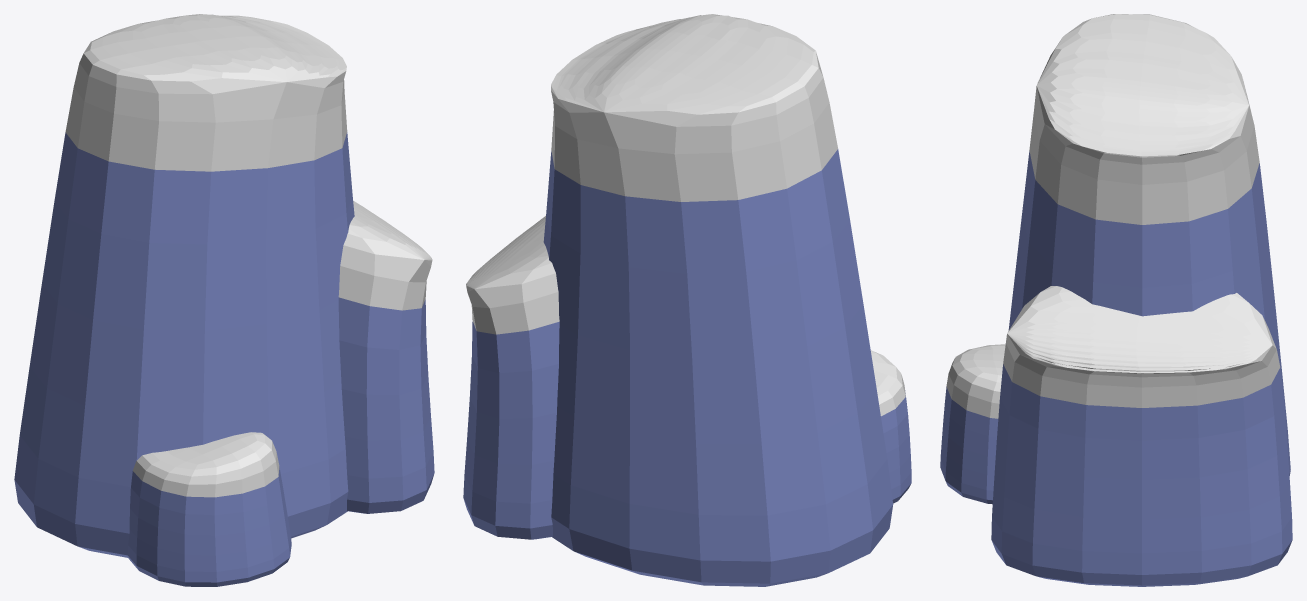
Rendered from Rock01_Mid.fbx.
3 views of the same model, side by side, from view 1: azimuth 30°, elevation 25°; view 2: azimuth 150°, elevation 25°; view 3: azimuth 270°, elevation 25° (orthographic). The views are drawn at different scales.
Visible parts, largest first — view 1: Rock01_Mid; view 2: Rock01_Mid; view 3: Rock01_Mid.
Part boxes in pixels (x1,y1,x2,y2): Rock01_Mid: (14,14,434,586); Rock01_Mid: (463,14,911,586); Rock01_Mid: (940,14,1292,586).
Bounding box in the file's own units: 28.25 × 34.54 × 24.49.
